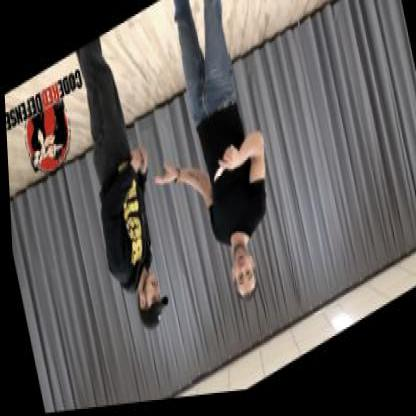knife: (206, 146, 238, 192)
